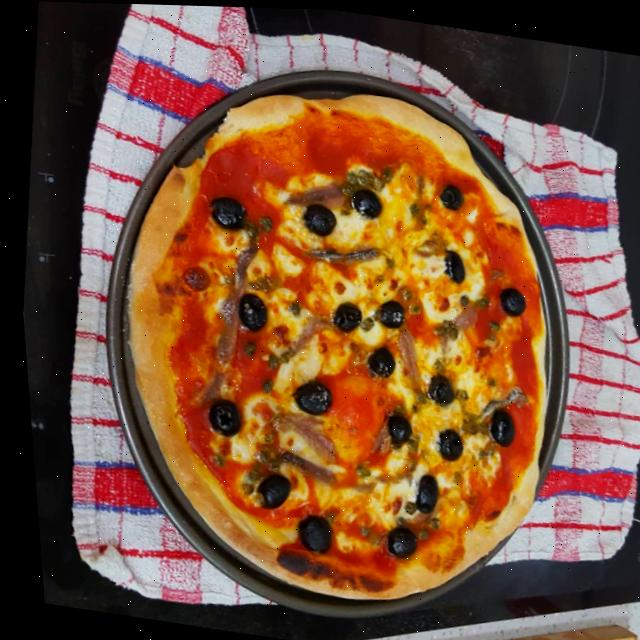black_olives: (285, 511, 326, 552), (284, 378, 328, 415), (399, 470, 435, 515), (198, 396, 237, 437), (246, 470, 284, 510), (203, 193, 244, 230), (230, 290, 264, 332), (478, 404, 511, 446), (297, 202, 335, 237), (375, 522, 409, 558), (343, 185, 380, 218), (324, 298, 358, 332), (359, 342, 391, 376), (428, 424, 458, 460), (418, 370, 449, 404), (372, 296, 402, 328), (377, 410, 406, 443), (492, 283, 522, 314), (436, 246, 462, 281), (433, 180, 462, 208)
pizza: (76, 59, 586, 623)
